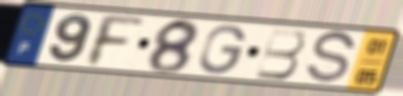8: (146, 17, 203, 75)
9: (46, 12, 94, 65)
B: (253, 27, 307, 81)
F: (85, 12, 147, 69)
G: (198, 24, 249, 77)
S: (303, 29, 358, 87)
